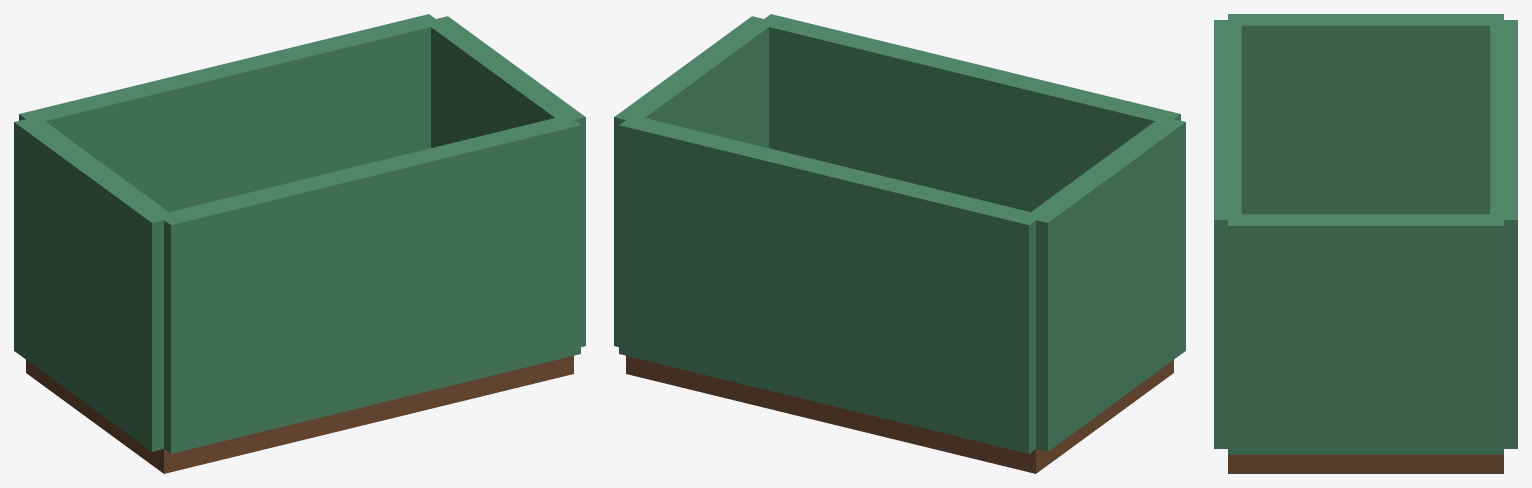
The model's file is storage_bin.glb.
3 renders of one model, left to right at view 1: azimuth 30°, elevation 25°; view 2: azimuth 150°, elevation 25°; view 3: azimuth 270°, elevation 25°, orthographic.
Visible parts, largest first — view 1: storage_bin; view 2: storage_bin; view 3: storage_bin.
Part boxes in pixels (x1,y1,x2,y2): storage_bin: (14, 14, 585, 473); storage_bin: (614, 14, 1185, 473); storage_bin: (1214, 14, 1517, 473).
Size of the model in its own units: 1.27 by 0.71 by 0.77.
